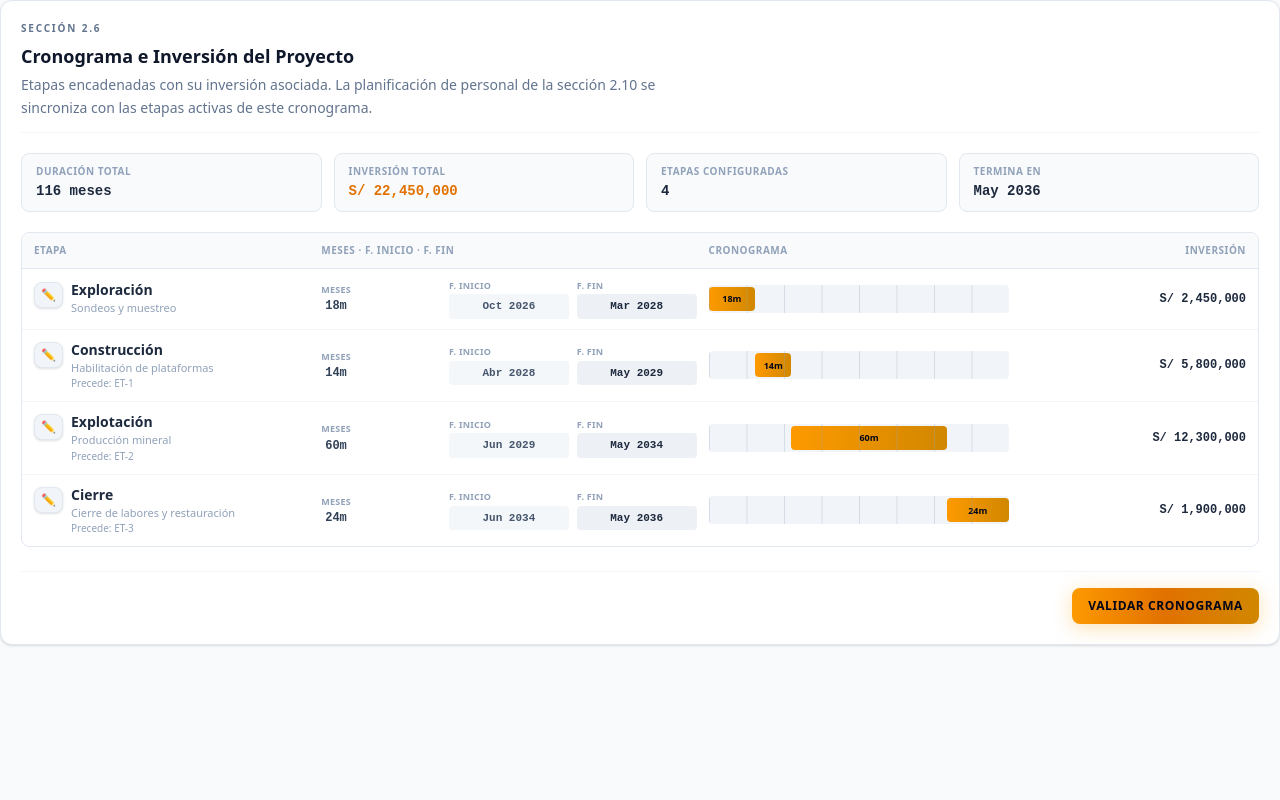
CronogramaComponent › edición en línea de las etapas › recalcula el total de meses y el ancho de la barra al escribir
Click the button with class "boton-editar" next to "Exploración" at (48, 295), box [34,282,63,308]
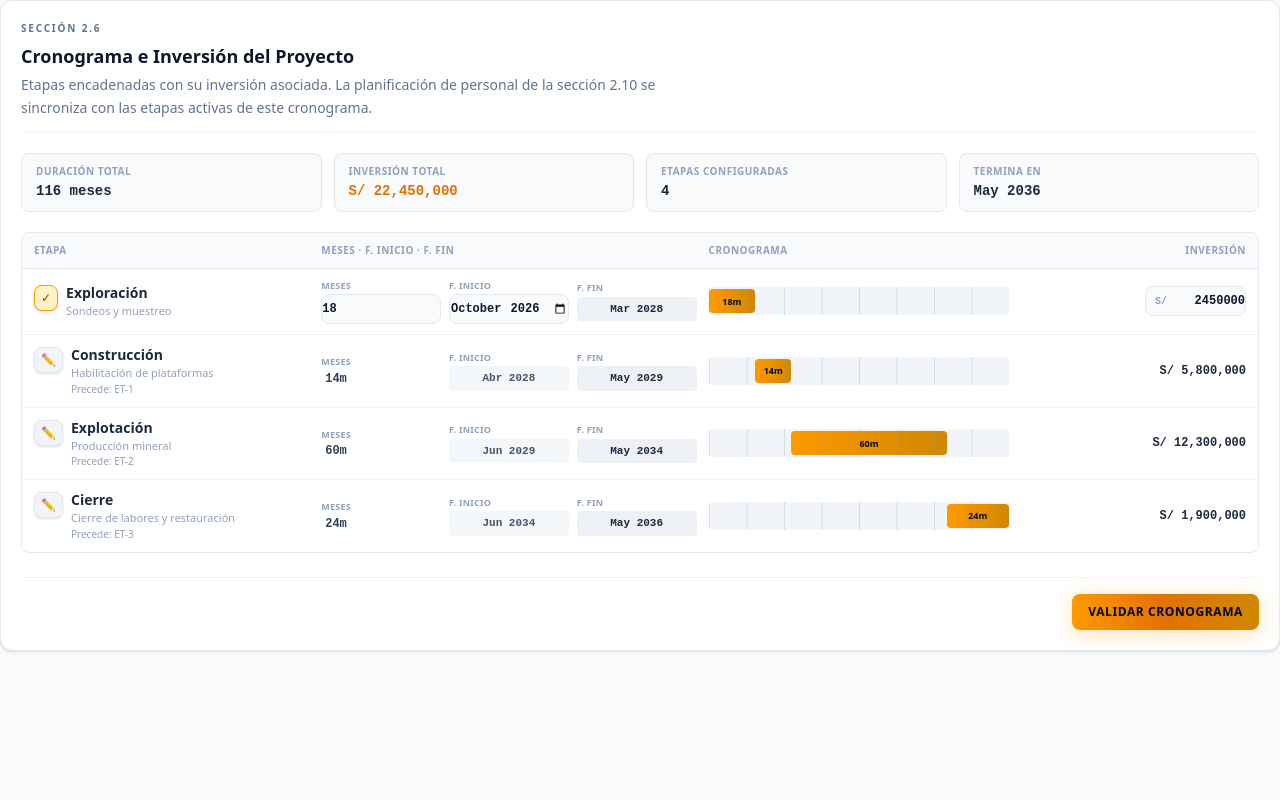
Replace the text in the 1st number field with class "inline-input" with "30" at (381, 309), box [321,294,441,324]
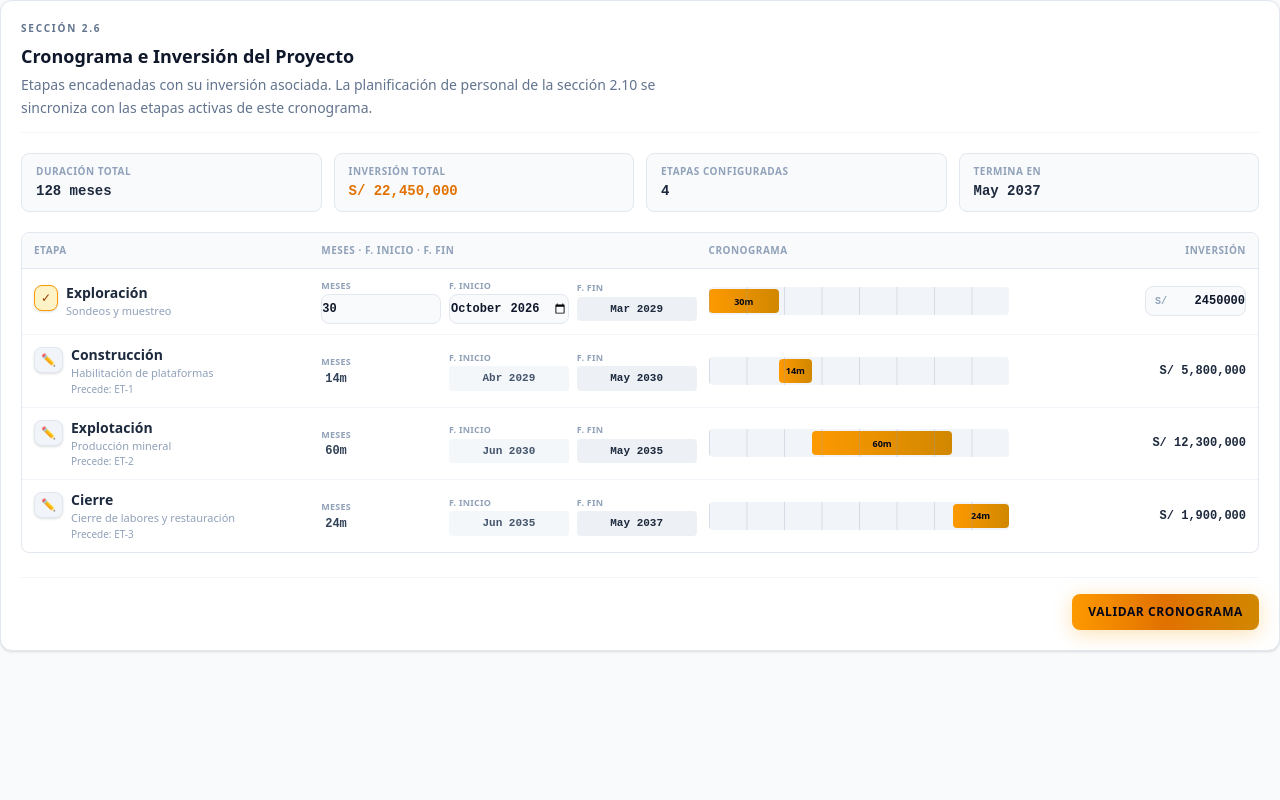
Result: the text with class "dato" no longer shows "116 meses"
Result: the text with class "dato" shows "128" at [36,182,112,198]
